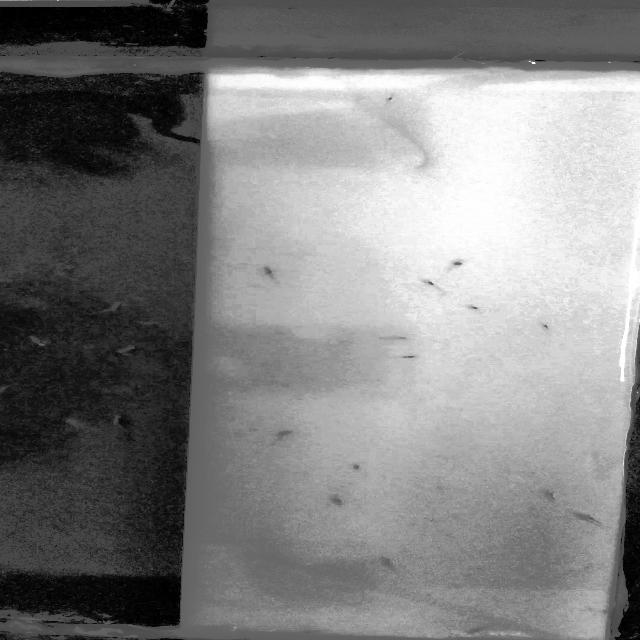shrimp: (420, 276, 453, 294), (574, 509, 604, 528), (272, 426, 304, 443), (379, 93, 408, 110), (256, 263, 283, 281), (380, 332, 416, 343), (541, 489, 561, 508), (448, 255, 468, 272), (537, 320, 561, 334), (383, 352, 425, 360), (456, 300, 483, 312), (296, 626, 325, 636), (345, 459, 367, 471), (380, 552, 396, 568), (466, 625, 494, 633), (330, 494, 342, 506)
